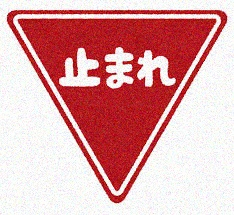Regulatory_sign_triangle: (6, 4, 229, 202)
